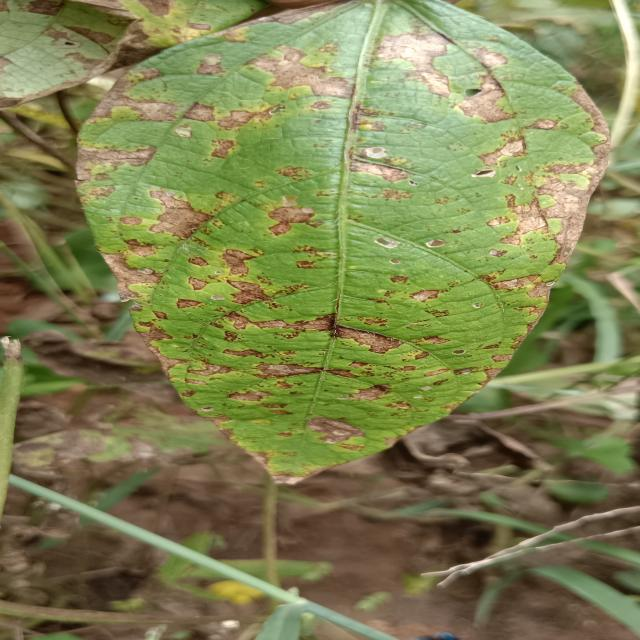Black gram_leaf spot: (63, 0, 607, 491)
